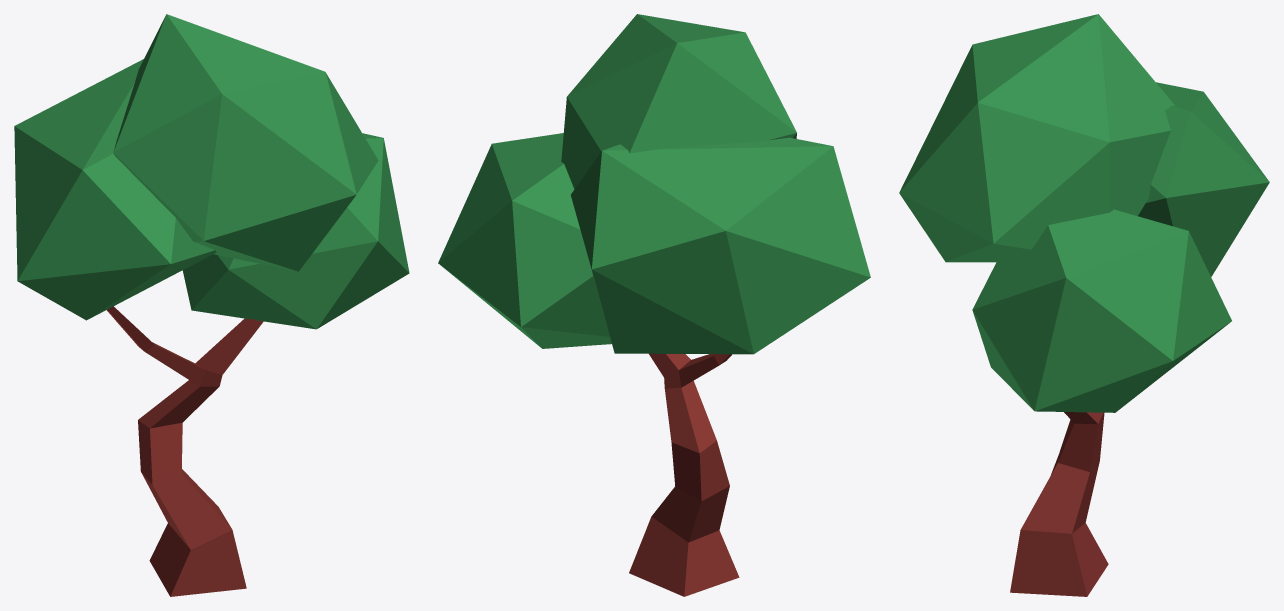
File: Flat_Tree_Oak_small_green.glb
The picture shows the model from 3 angles, left to right: view 1: azimuth 30°, elevation 25°; view 2: azimuth 150°, elevation 25°; view 3: azimuth 270°, elevation 25°; orthographic projection.
Visible parts, largest first — view 1: Oak small green f; view 2: Oak small green f; view 3: Oak small green f.
Part boxes in pixels (x1,y1,x2,y2): Oak small green f: [14, 14, 409, 596]; Oak small green f: [438, 14, 870, 596]; Oak small green f: [899, 14, 1269, 596].
Size of the model in its own units: 7.47 by 10.29 by 6.17.
